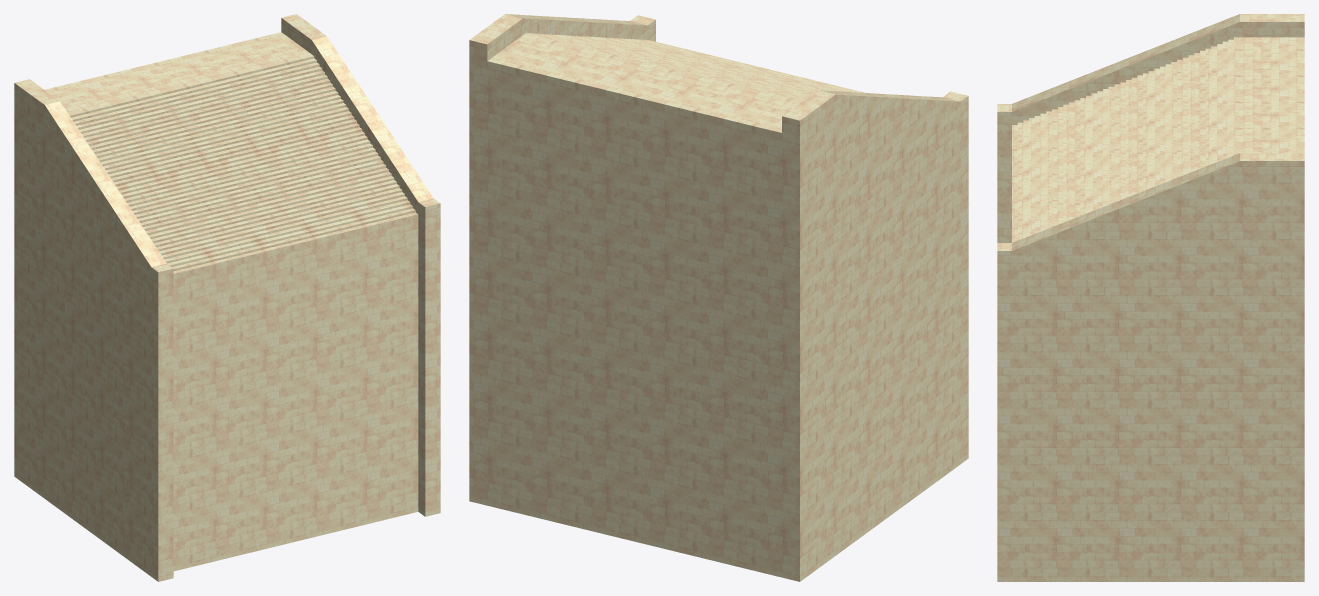
File: SM_stairs_Big.glb
The picture shows the model from 3 angles, left to right: view 1: azimuth 30°, elevation 25°; view 2: azimuth 150°, elevation 25°; view 3: azimuth 270°, elevation 25°; orthographic projection. The views are drawn at different scales.
Parts seen in each view (by area): view 1: SM_stairs_Big; view 2: SM_stairs_Big; view 3: SM_stairs_Big.
Boxes of the visible parts, box(x1,y1,x2,y2) form: SM_stairs_Big: box(14, 14, 440, 581); SM_stairs_Big: box(469, 14, 968, 581); SM_stairs_Big: box(997, 14, 1304, 581).
Bounding box in the file's own units: 22.44 × 29.92 × 19.82.
1 material, 1 textured.
